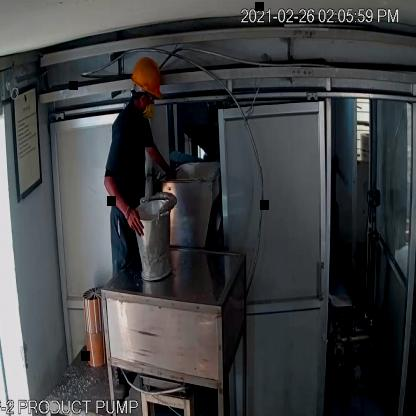helmet: (128, 53, 166, 103)
